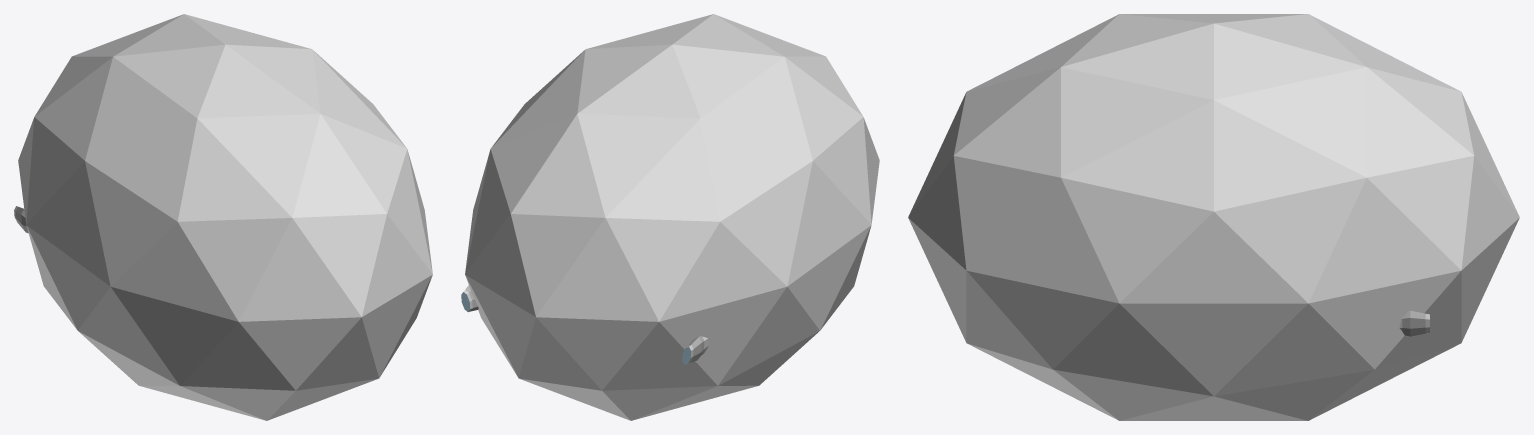
File: Kling_Cruiser_i_sheilds.fbx
3 views of the same model, side by side, from view 1: azimuth 30°, elevation 25°; view 2: azimuth 150°, elevation 25°; view 3: azimuth 270°, elevation 25° (orthographic). The views are drawn at different scales.
Visible parts, largest first — view 1: Shields; view 2: Shields, Ship; view 3: Shields, Ship.
Boxes of the visible parts, bbox=[...] form: Shields: bbox=[18, 14, 432, 420]; Shields: bbox=[465, 14, 879, 420]; Ship: bbox=[461, 285, 708, 364]; Shields: bbox=[908, 14, 1519, 420]; Ship: bbox=[1399, 310, 1429, 337].
Size of the model in its own units: 21.1 by 22.18 by 31.71.
Materials: 2 (1 with a texture image).
